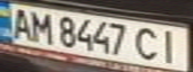4: (90, 18, 112, 54), (72, 17, 93, 52)
7: (109, 20, 133, 56)
8: (54, 15, 78, 48)
A: (6, 6, 36, 39)
C: (133, 25, 163, 62)
I: (154, 27, 187, 64)
M: (27, 9, 57, 44)
